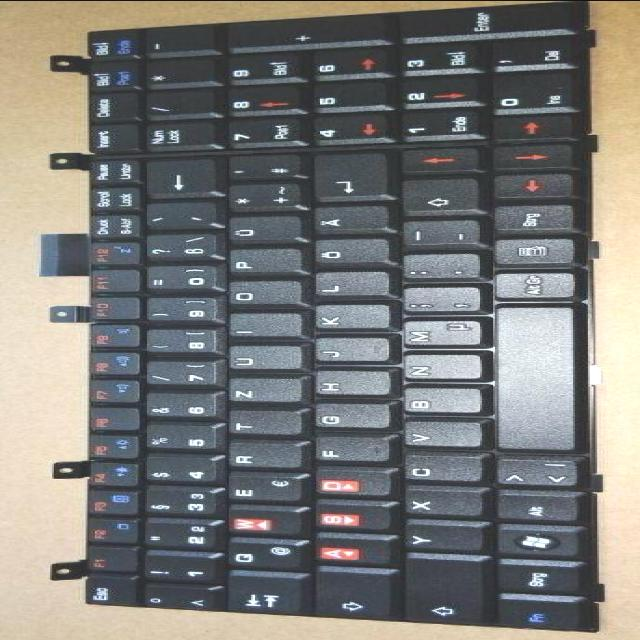0: (140, 266, 218, 292)
1: (136, 555, 216, 583)
2: (136, 520, 218, 550)
3: (138, 487, 216, 517)
4: (140, 456, 216, 484)
5: (138, 424, 216, 452)
6: (140, 393, 216, 419)
7: (138, 362, 214, 388)
8: (138, 329, 216, 355)
9: (138, 298, 218, 324)
a: (309, 537, 389, 567)
accent: (138, 204, 214, 230)
ae: (309, 206, 387, 232)
alt-left: (489, 493, 577, 523)
altgr-right: (486, 273, 574, 301)
b: (394, 388, 480, 416)
c: (396, 455, 482, 483)
caret: (140, 586, 218, 612)
comma: (396, 287, 478, 315)
d: (307, 470, 387, 498)
del: (140, 160, 214, 198)
e: (220, 475, 300, 503)
enter: (305, 154, 385, 202)
f: (309, 437, 387, 463)
g: (309, 404, 387, 430)
h: (307, 370, 387, 398)
hash: (222, 156, 302, 180)
i: (222, 313, 300, 339)
j: (307, 338, 385, 364)
k: (307, 305, 387, 331)
keyboard: (62, 1, 607, 635)
l: (307, 272, 387, 298)
less: (490, 458, 581, 488)
m: (393, 321, 479, 349)
minus: (395, 220, 479, 248)
n: (396, 354, 480, 382)
o: (222, 281, 298, 307)
oe: (309, 239, 387, 265)
p: (222, 249, 300, 275)
plus: (220, 184, 300, 212)
point: (396, 254, 478, 282)
q: (220, 541, 302, 571)
r: (222, 442, 302, 470)
s: (307, 504, 387, 532)
shift-left: (396, 558, 484, 625)
shift-lock: (307, 571, 391, 621)
shift-right: (395, 178, 479, 214)
space: (487, 307, 575, 453)
ss: (138, 234, 216, 262)
strg-left: (490, 562, 581, 596)
strg-right: (486, 205, 572, 233)
t: (222, 410, 300, 436)
tab: (220, 575, 302, 616)
u: (220, 346, 300, 372)
ue: (220, 216, 300, 244)
v: (396, 421, 480, 449)
w: (220, 509, 298, 537)
x: (396, 488, 482, 518)
y: (396, 523, 484, 553)
z: (220, 378, 300, 404)
